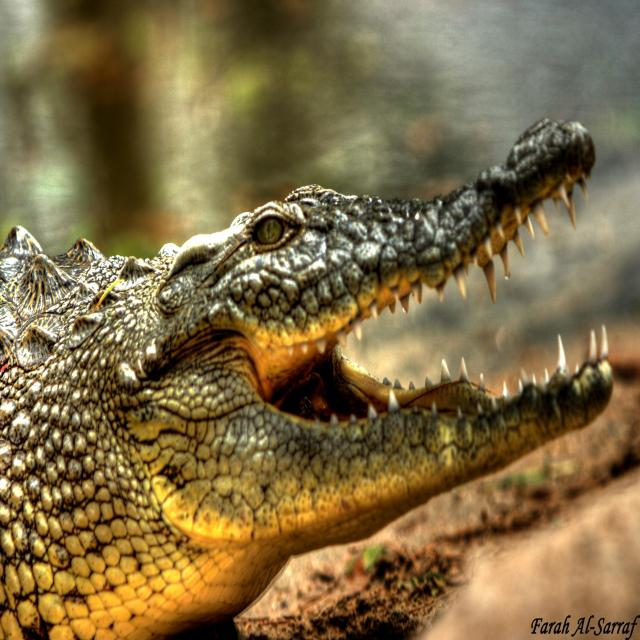crocodile: (1, 121, 614, 639)
